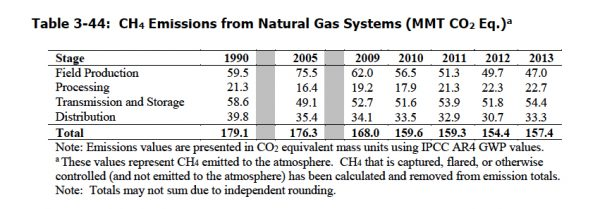fracking table: (31, 10, 567, 141)
